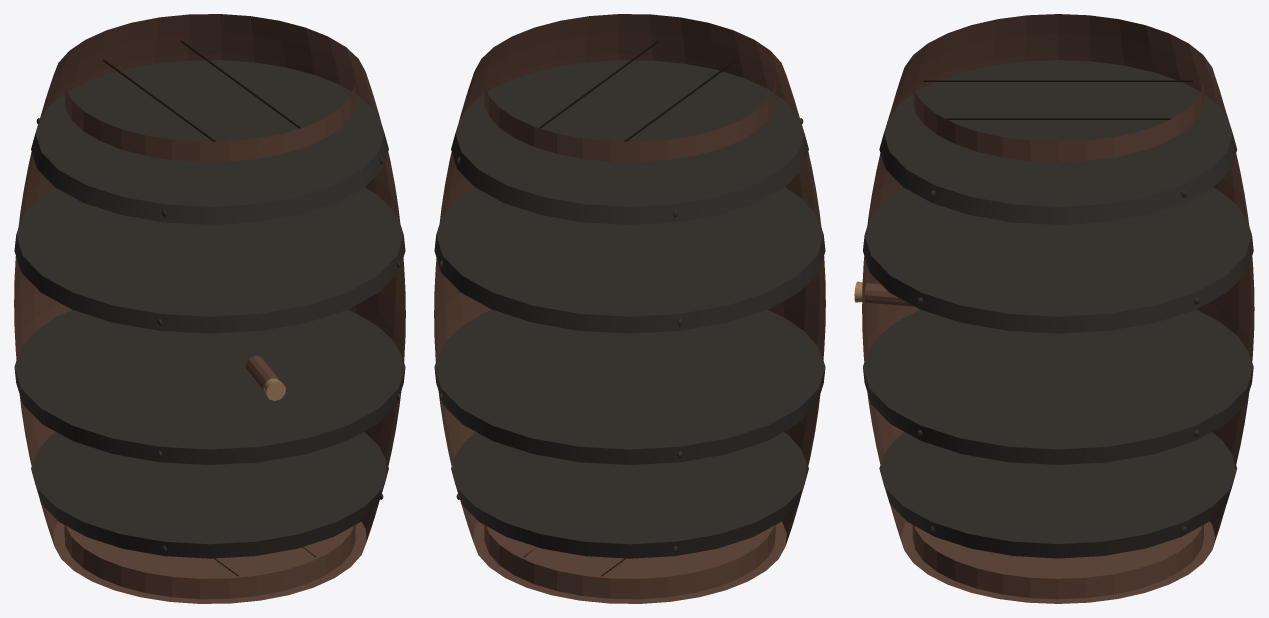
File: wooden-barrel.glb
3 renders of one model, left to right at view 1: azimuth 30°, elevation 25°; view 2: azimuth 150°, elevation 25°; view 3: azimuth 270°, elevation 25°, orthographic.
Parts seen in each view (by area): view 1: Mesh_Hoop3, Mesh_BarrelBody, Mesh_Hoop1, Mesh_Hoop2, Mesh_Hoop4; view 2: Mesh_Hoop3, Mesh_BarrelBody, Mesh_Hoop1, Mesh_Hoop2, Mesh_Hoop4; view 3: Mesh_Hoop3, Mesh_BarrelBody, Mesh_Hoop2, Mesh_Hoop1, Mesh_Hoop4, Mesh_LidPlankLine1.
Part boxes in pixels (box(x1,y1,x2,y2)): Mesh_Hoop3: box(14, 310, 405, 464); Mesh_BarrelBody: box(14, 14, 405, 603); Mesh_Hoop1: box(31, 60, 388, 224); Mesh_Hoop2: box(14, 187, 405, 333); Mesh_Hoop4: box(31, 432, 388, 558); Mesh_Hoop3: box(434, 310, 825, 464); Mesh_BarrelBody: box(434, 14, 825, 603); Mesh_Hoop1: box(451, 60, 808, 224); Mesh_Hoop2: box(434, 187, 825, 333); Mesh_Hoop4: box(451, 432, 808, 558); Mesh_Hoop3: box(863, 309, 1253, 464); Mesh_BarrelBody: box(862, 14, 1254, 603); Mesh_Hoop2: box(863, 187, 1253, 333); Mesh_Hoop1: box(879, 60, 1237, 224); Mesh_Hoop4: box(879, 432, 1237, 558); Mesh_LidPlankLine1: box(923, 80, 1192, 81).
Bounding box in the file's own units: 0.7 × 0.9 × 0.7136.
